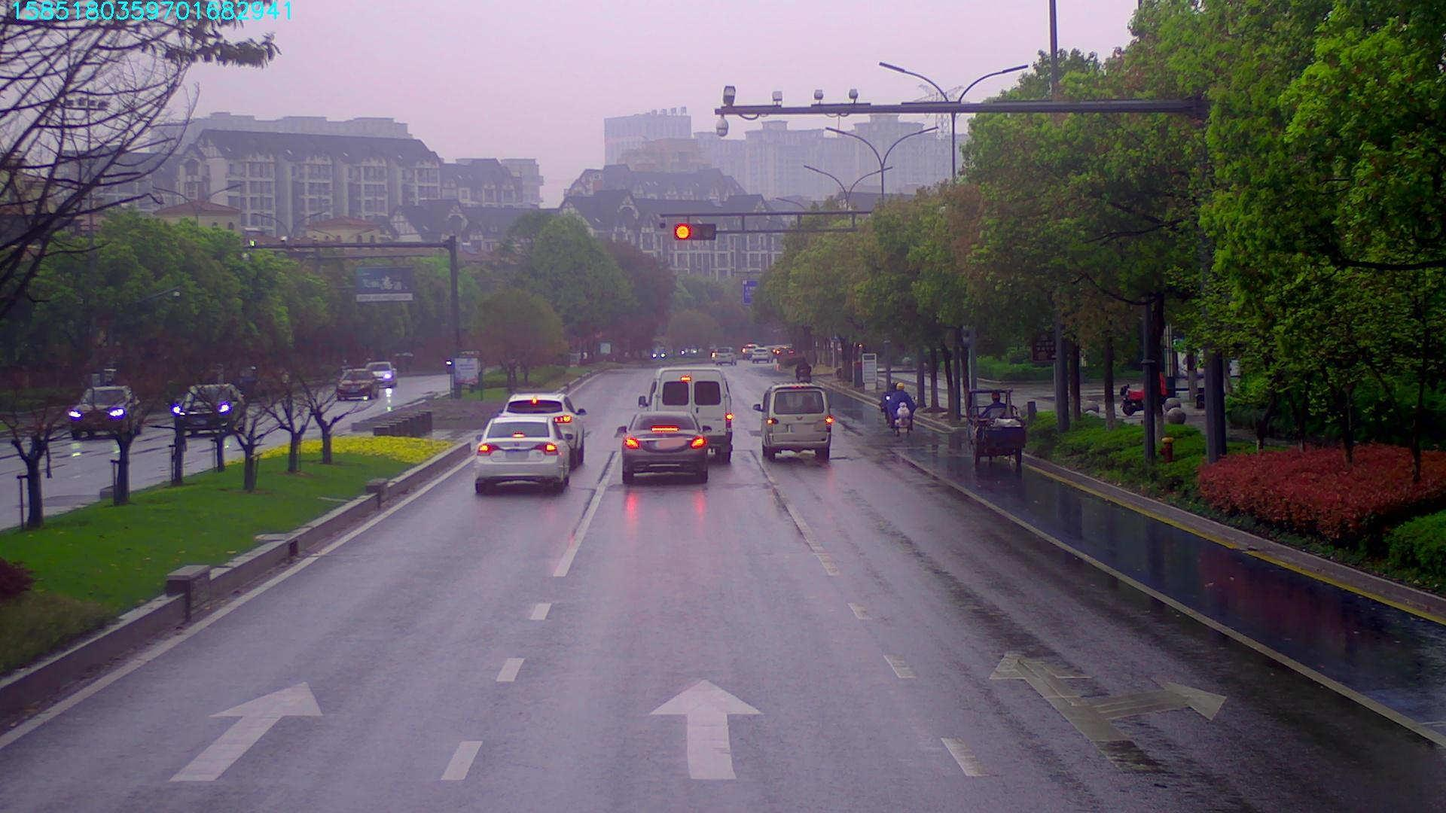red: (672, 221, 717, 239)
